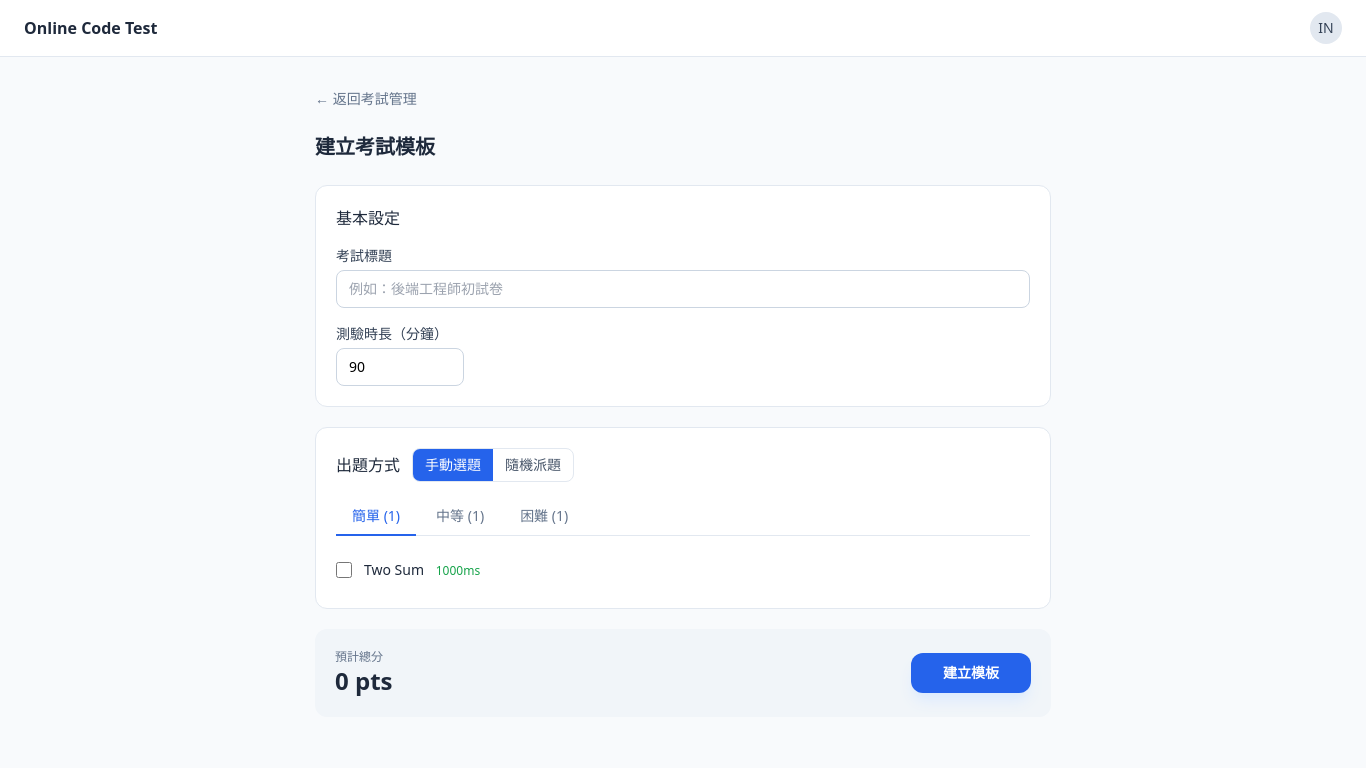
Test case: TemplateCreatePage() › manual mode removes a selected problem when its checkbox is toggled again
In the field labelled "考試標題": (683, 289) 336,270 -> 1030,308, type "Manual Exam"
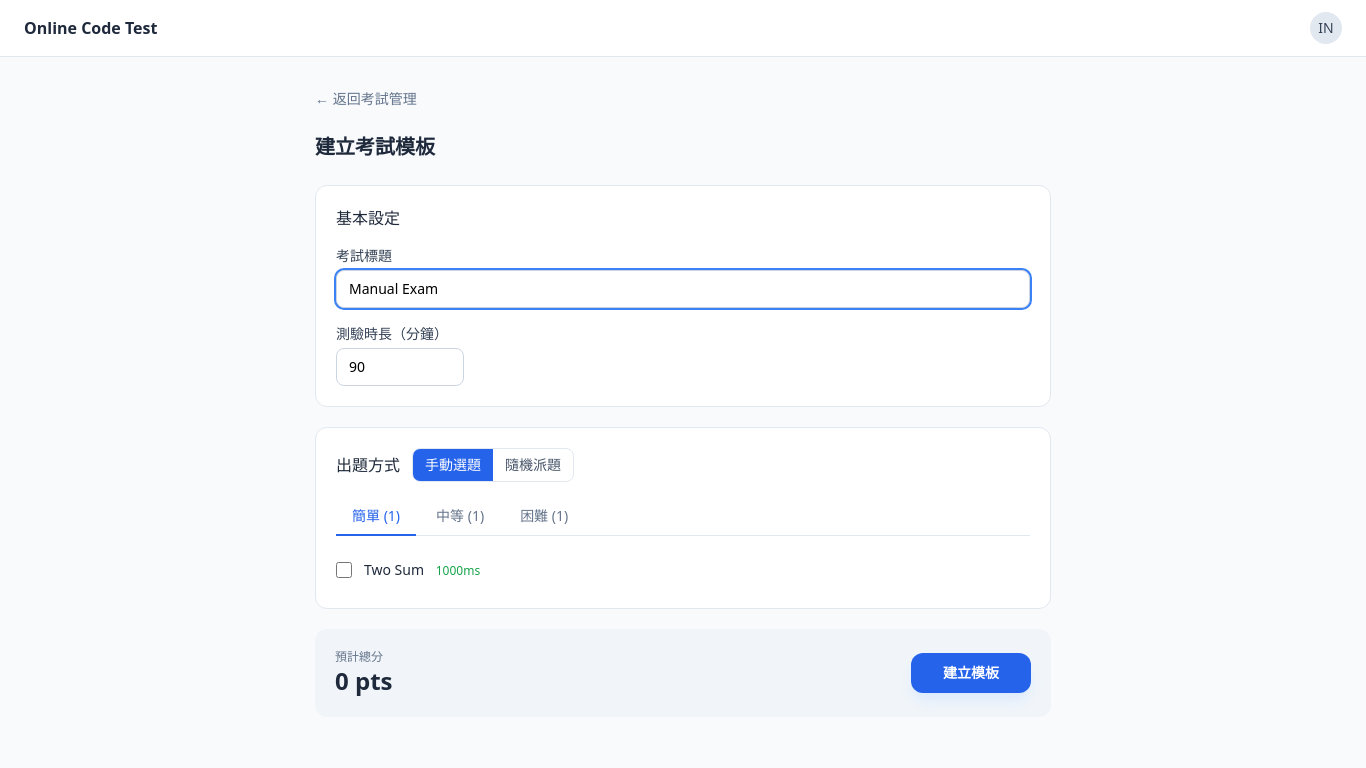
Click the checkbox named "Two Sum": (344, 570) 336,562 -> 352,578
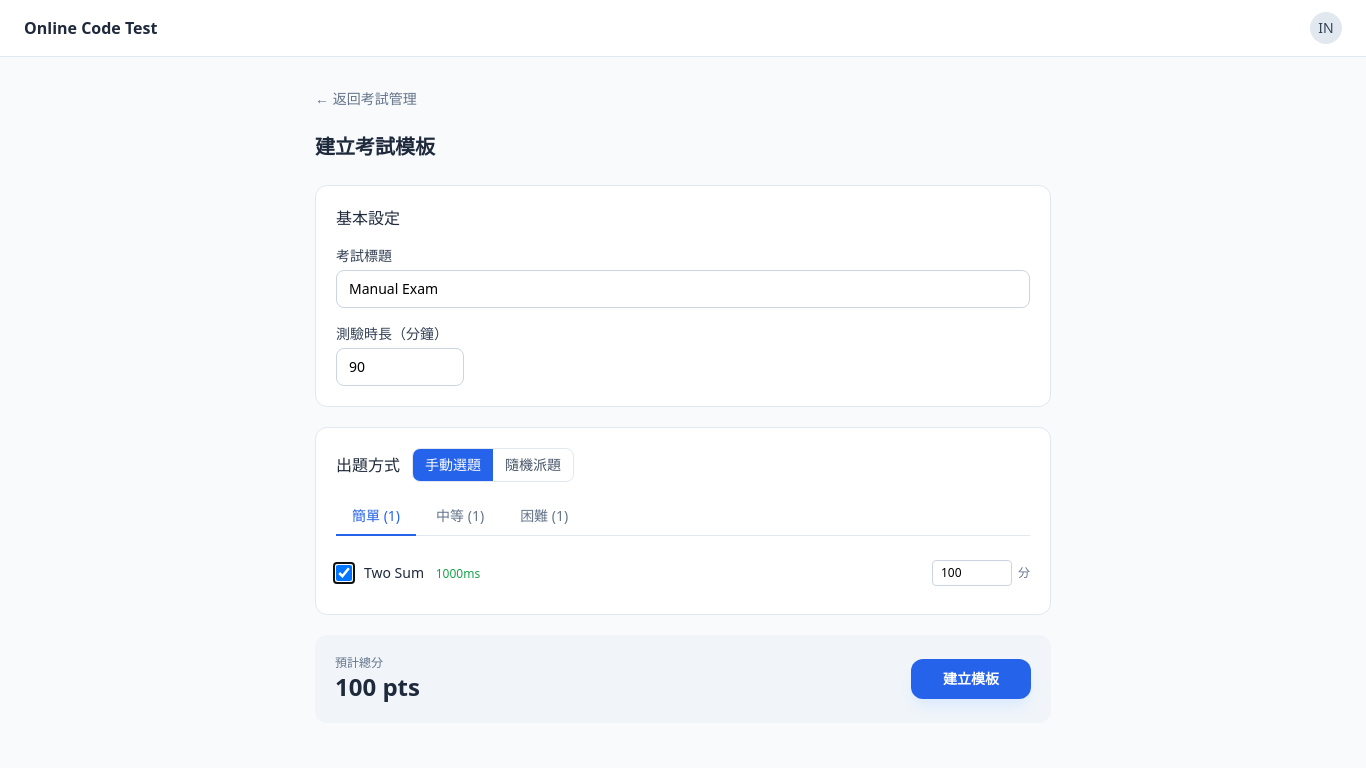
Click the checkbox named "Two Sum": (344, 573) 336,565 -> 352,581
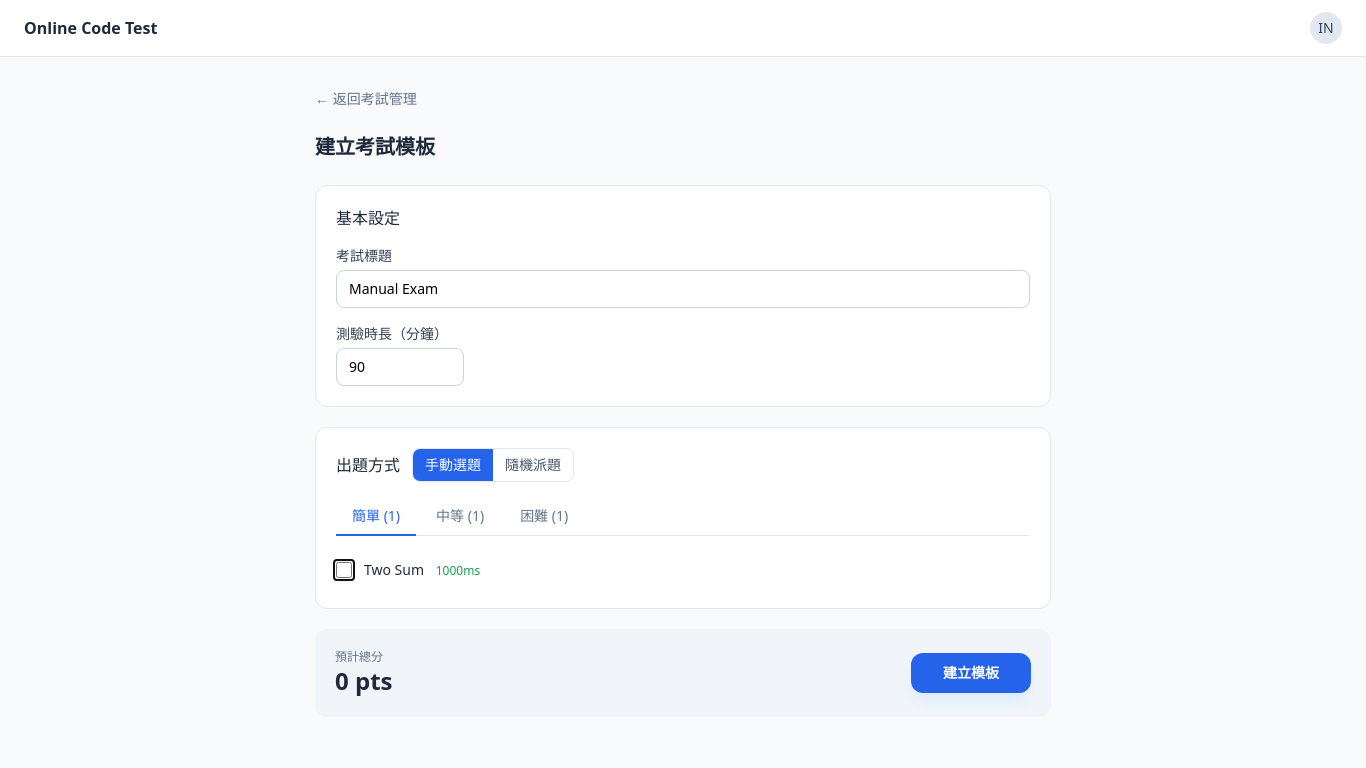
Click the button "建立模板": (971, 673) 911,653 -> 1031,693
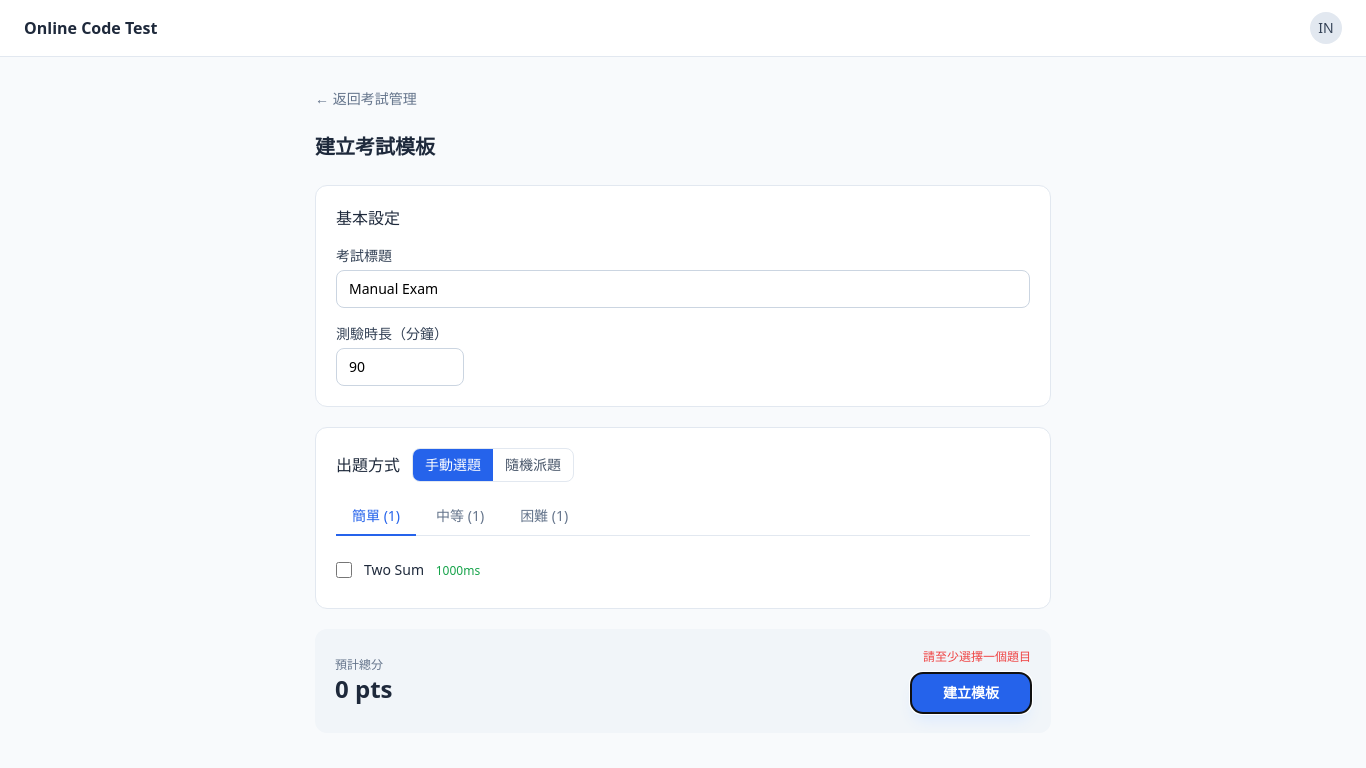
Result: the text "請至少選擇一個題目" is shown at 923,649 -> 1031,665
